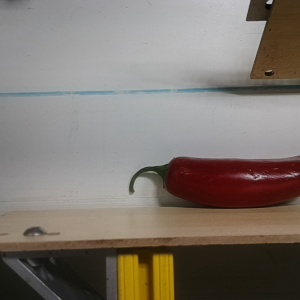Cut Point: (156, 153, 186, 197)
